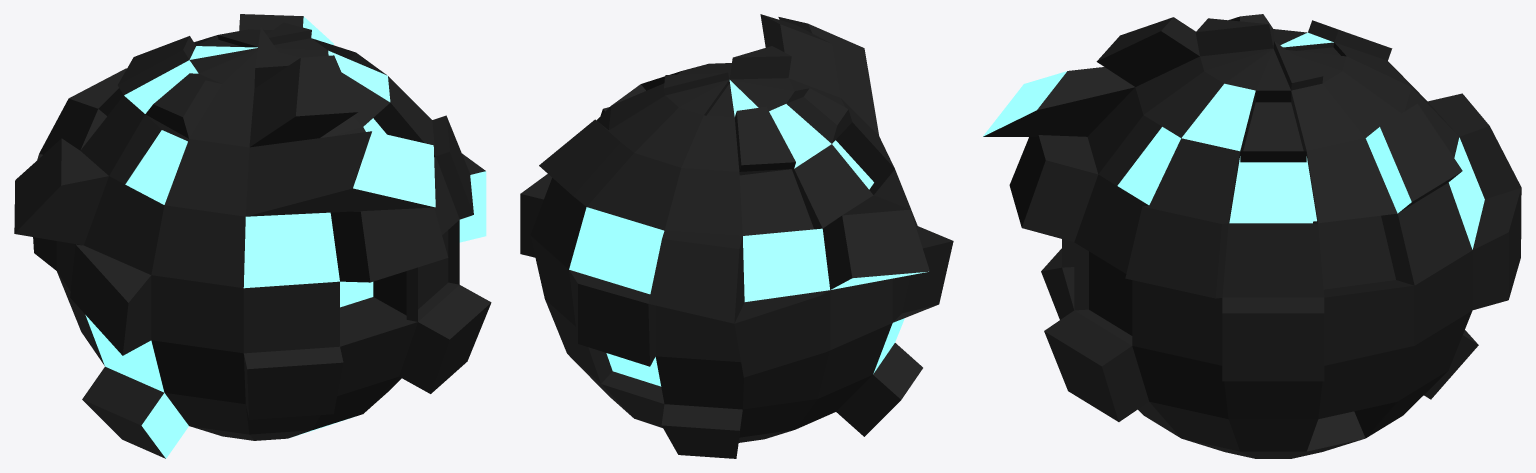
3 renders of one model, left to right at view 1: azimuth 30°, elevation 25°; view 2: azimuth 150°, elevation 25°; view 3: azimuth 270°, elevation 25°, orthographic. The views are drawn at different scales.
Visible parts, largest first — view 1: Sphere; view 2: Sphere; view 3: Sphere.
Part boxes in pixels (bbox=[...]): Sphere: bbox=[14, 14, 491, 458]; Sphere: bbox=[520, 14, 953, 458]; Sphere: bbox=[983, 14, 1521, 458].
Bounding box in the file's own units: 592 × 525 × 611.
